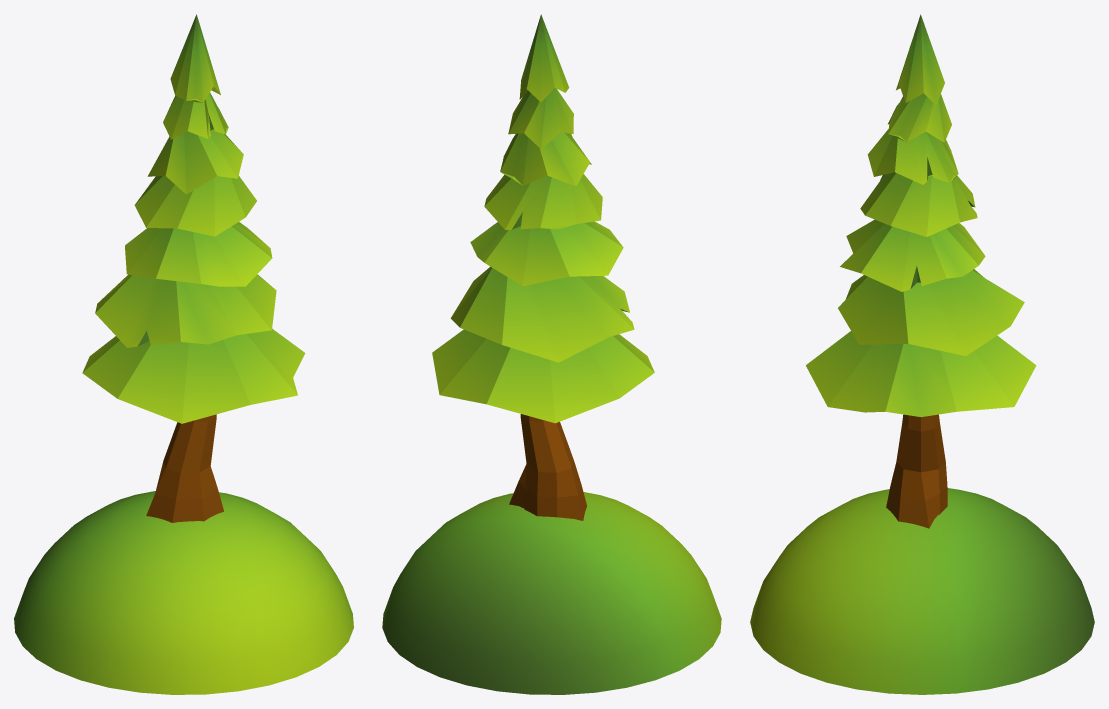
File: Tree3.fbx
3 views of the same model, side by side, from view 1: azimuth 30°, elevation 25°; view 2: azimuth 150°, elevation 25°; view 3: azimuth 270°, elevation 25° (orthographic).
Visible parts, largest first — view 1: Sphere, Cylinder; view 2: Sphere, Cylinder; view 3: Sphere, Cylinder.
Part boxes in pixels (box(x1,y1,x2,y2)): Sphere: box(14, 491, 353, 694); Cylinder: box(82, 14, 305, 522); Sphere: box(382, 492, 721, 694); Cylinder: box(432, 14, 654, 520); Sphere: box(750, 488, 1094, 694); Cylinder: box(806, 14, 1036, 528).
Bounding box in the file's own units: 213 × 419 × 213.
Materials: 3 (3 with a texture image).
